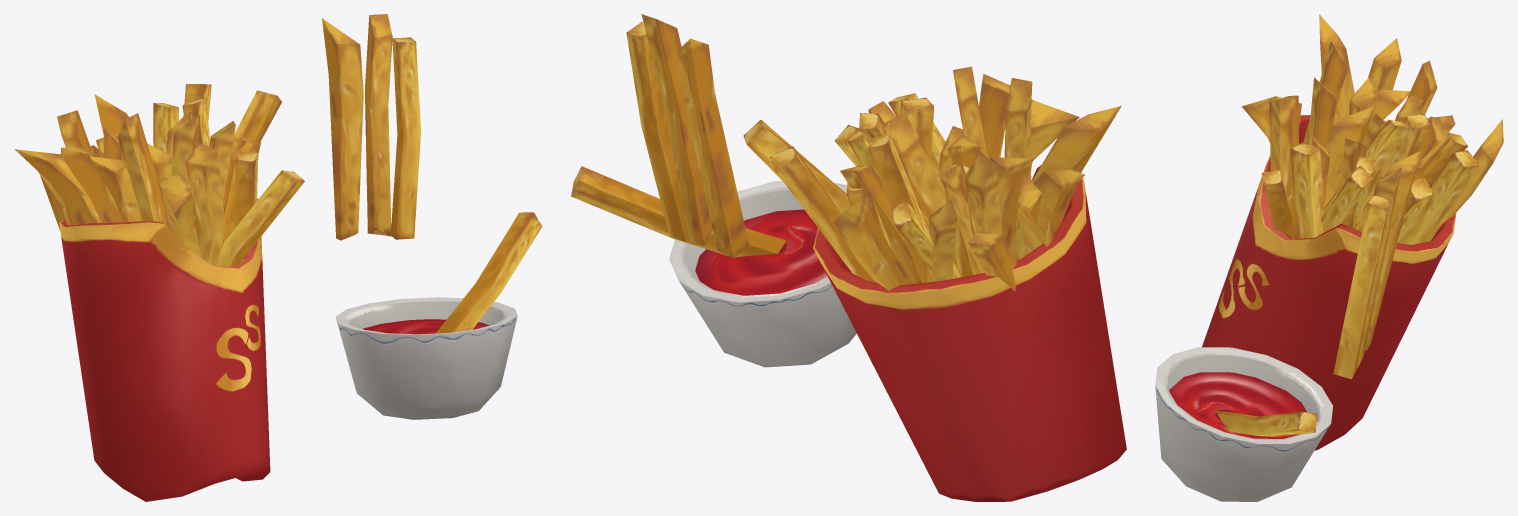
File: fries.glb
3 renders of one model, left to right at view 1: azimuth 30°, elevation 25°; view 2: azimuth 150°, elevation 25°; view 3: azimuth 270°, elevation 25°, orthographic. The views are drawn at different scales.
Visible parts, largest first — view 1: friespocketwithFries_0; view 2: friespocketwithFries_0; view 3: friespocketwithFries_0.
Part boxes in pixels (x1,y1,x2,y2): friespocketwithFries_0: [15, 14, 542, 501]; friespocketwithFries_0: [571, 14, 1126, 501]; friespocketwithFries_0: [1155, 14, 1503, 501].
Size of the model in its own units: 0.6578 by 0.5 by 0.4137.
Materials: 1 (1 with a texture image).
